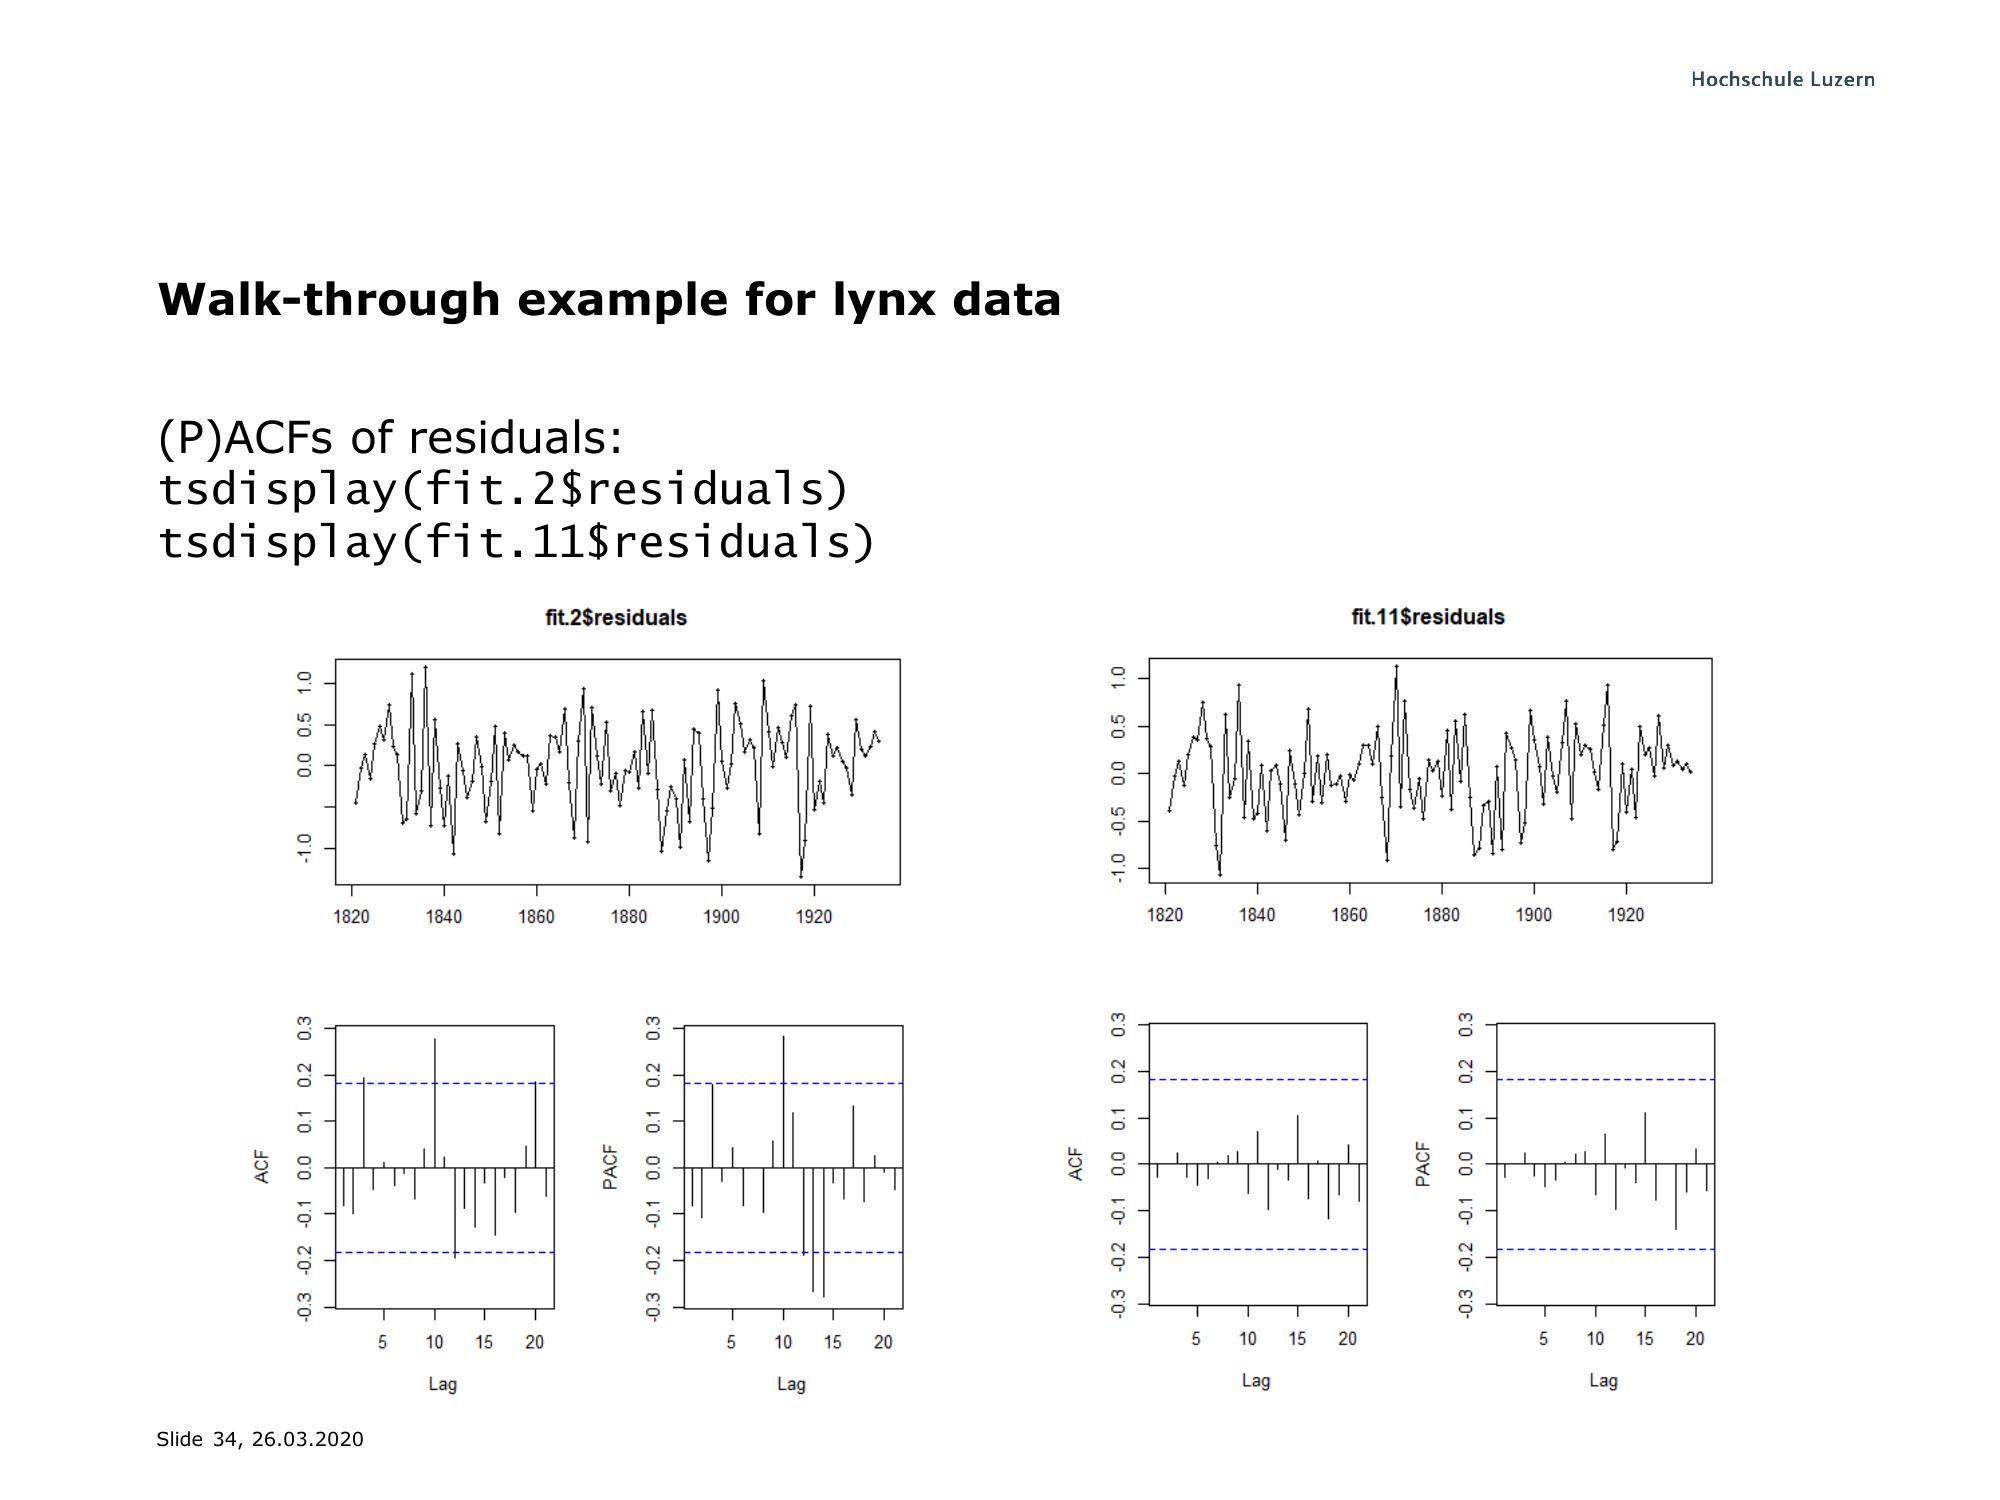Title: (135, 257, 1085, 342)
